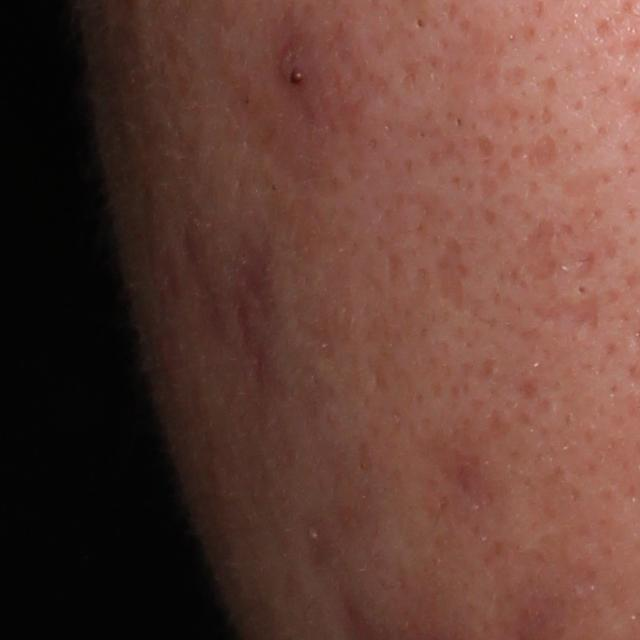atrophic_scar: (180, 212, 282, 423), (499, 222, 599, 347), (422, 435, 498, 539), (435, 240, 469, 312), (557, 245, 605, 283), (525, 130, 561, 177)
comedo: (413, 12, 427, 30)
